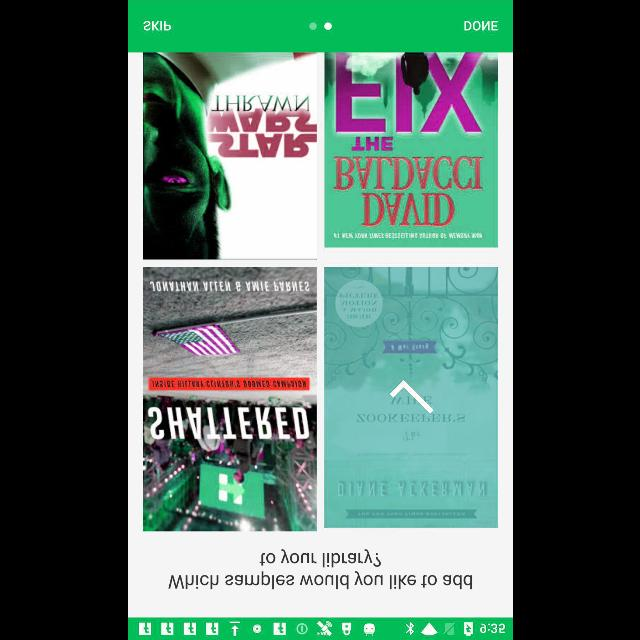icon: (388, 380, 434, 414)
image: (142, 267, 316, 531), (324, 267, 496, 527), (142, 53, 316, 259), (324, 52, 498, 248)
pageindicator: (308, 22, 332, 30)
text: (168, 548, 472, 590), (464, 20, 496, 32), (143, 21, 171, 31)
uppertaskbar: (128, 617, 512, 639)
